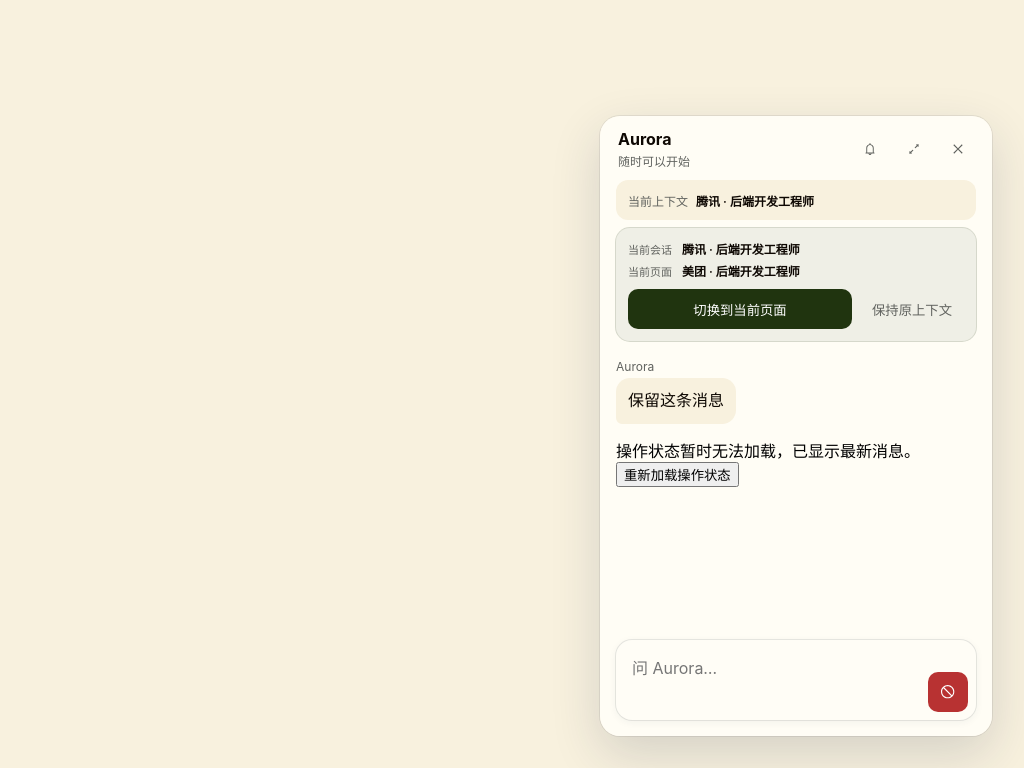
Scenario: HaruChatWindow › shows an explicit conversation-to-page context switch without clearing messages
This screenshot has width=1024, height=768.
Click the button "切换到当前页面" at (740, 309), box [628,289,852,329]
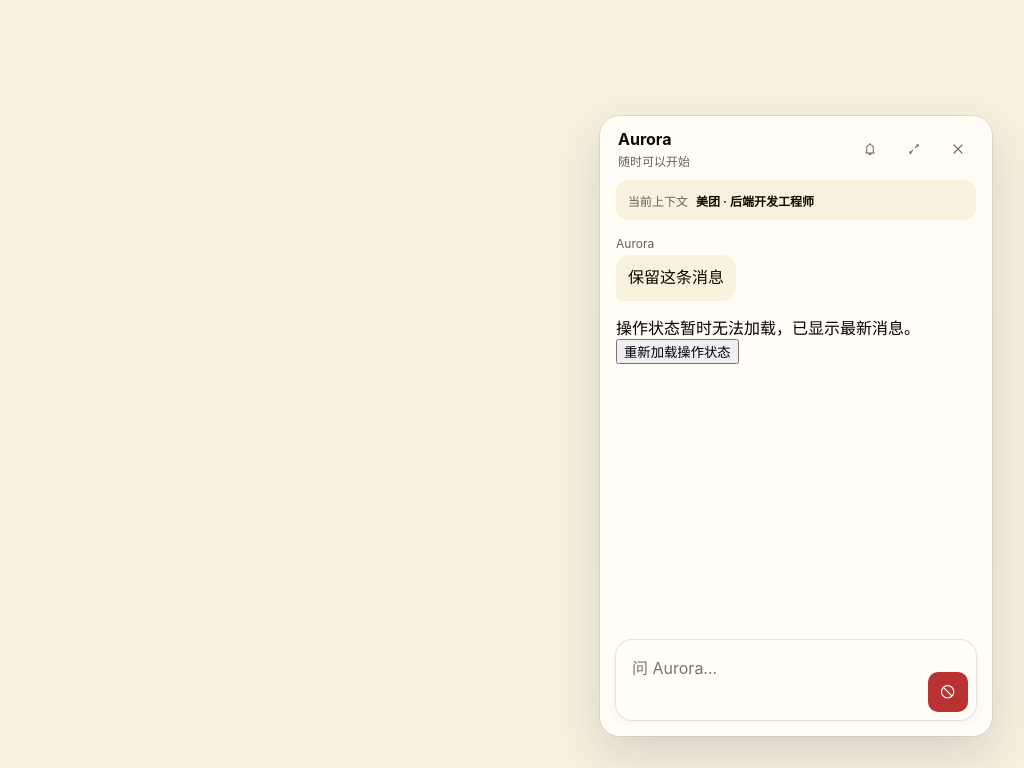
Expected: the text "保留这条消息" is shown, [616,255,736,301]
Now the text "切换到当前页面" is gone
